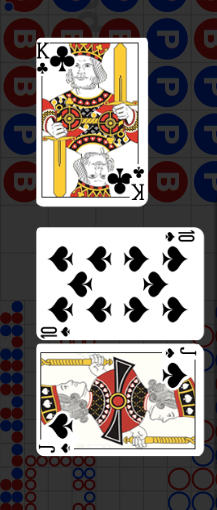10S: (163, 229, 196, 243)
JS: (38, 411, 85, 455), (159, 344, 205, 388)
